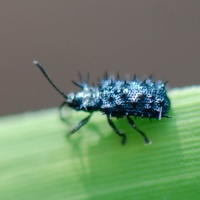insect: (33, 60, 169, 143)
